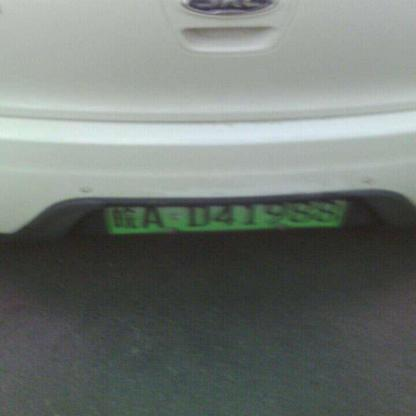lp: (107, 197, 348, 235)
